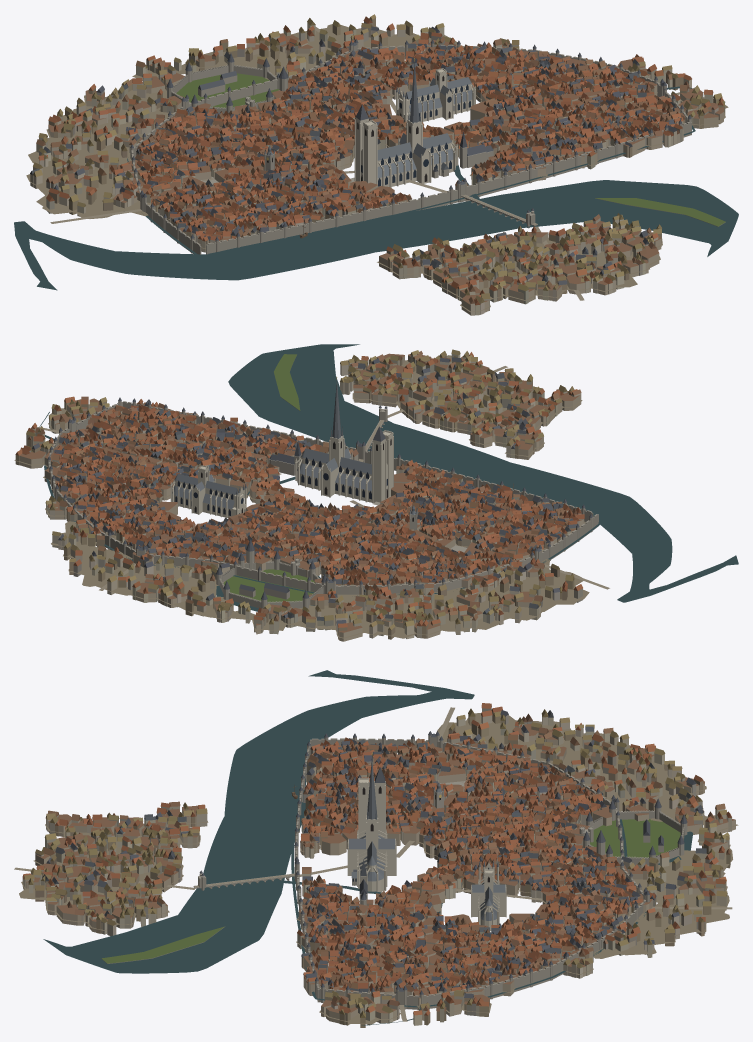
Rendered from rouen.glb.
The picture shows the model from 3 angles, top to bottom: view 1: azimuth 30°, elevation 25°; view 2: azimuth 150°, elevation 25°; view 3: azimuth 270°, elevation 25°; orthographic projection. The views are drawn at different scales.
Parts seen in each view (by area): view 1: houses, ground, blocks, landmarks, cathedrale, cathedrale__tour_de_beurre; view 2: houses, ground, blocks, landmarks, cathedrale; view 3: houses, ground, blocks, landmarks, cathedrale.
Part boxes in pixels (box(x1,y1,x2,y2)): houses: box(30, 14, 724, 315); ground: box(14, 24, 738, 312); blocks: box(48, 33, 723, 315); landmarks: box(127, 39, 695, 255); cathedrale: box(354, 58, 458, 187); cathedrale__tour_de_beurre: box(362, 120, 377, 184); houses: box(15, 349, 584, 639); ground: box(14, 344, 738, 638); blocks: box(19, 353, 583, 641); landmarks: box(44, 397, 601, 611); cathedrale: box(295, 377, 387, 503); houses: box(22, 703, 731, 1027); ground: box(14, 670, 738, 1025); blocks: box(22, 723, 735, 1024); landmarks: box(193, 731, 692, 1009); cathedrale: box(347, 753, 396, 893).
Bounding box in the file's own units: 12.13 × 1.95 × 10.44.
